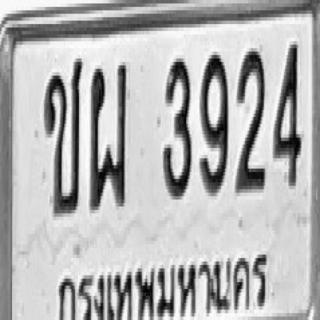A10: (44, 57, 82, 215)
A28: (89, 62, 126, 210)
N02: (235, 48, 266, 193)
N03: (162, 55, 192, 200)
N04: (272, 41, 300, 186)
N09: (200, 52, 228, 196)
P04: (52, 246, 278, 320)
